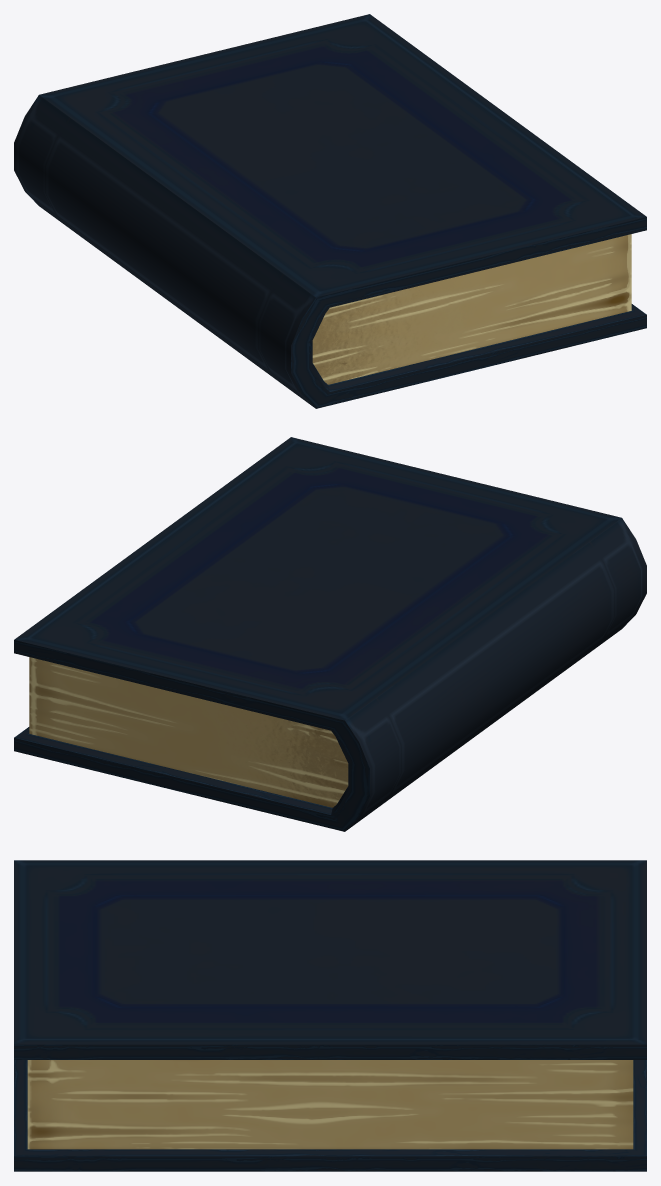
The model's file is Book_5.gltf.
3 views of the same model, one above another, from view 1: azimuth 30°, elevation 25°; view 2: azimuth 150°, elevation 25°; view 3: azimuth 270°, elevation 25° (orthographic). The views are drawn at different scales.
Visible parts, largest first — view 1: Book_5; view 2: Book_5; view 3: Book_5.
Part boxes in pixels (x1=…): Book_5: x1=14, y1=14, x2=646, y2=408; Book_5: x1=14, y1=437, x2=646, y2=831; Book_5: x1=14, y1=860, x2=646, y2=1171.
Bounding box in the file's own units: 0.2129 × 0.0636 × 0.2871.
Materials: 1 (1 with a texture image).
